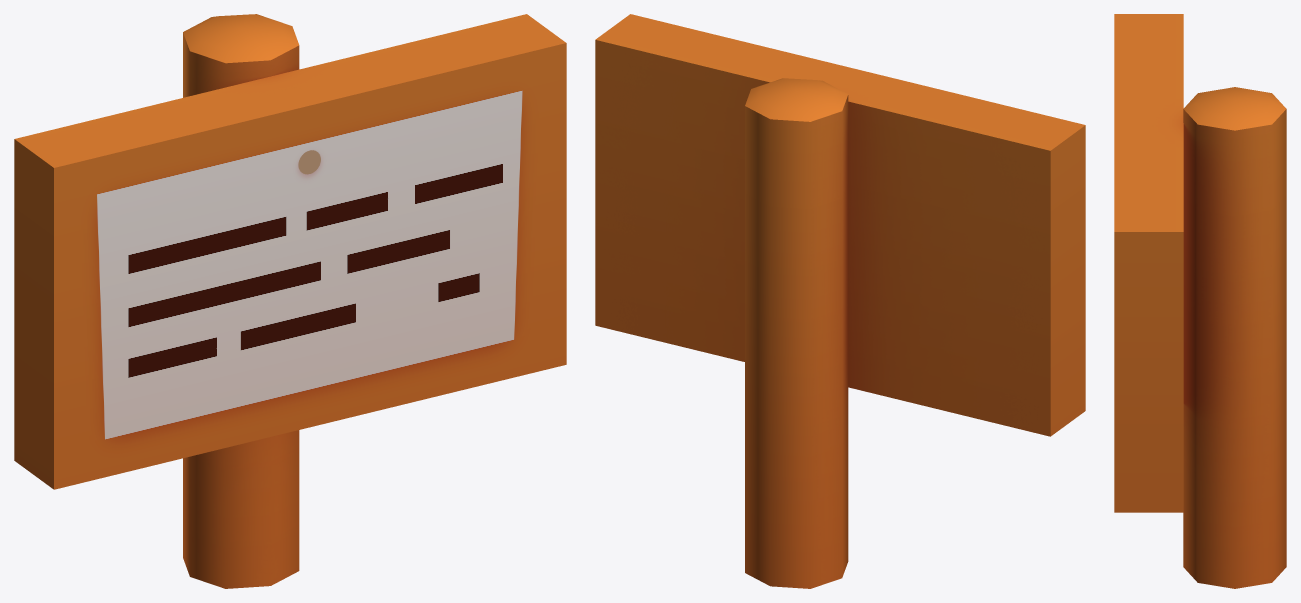
File: Signpost.FBX
3 views of the same model, side by side, from view 1: azimuth 30°, elevation 25°; view 2: azimuth 150°, elevation 25°; view 3: azimuth 270°, elevation 25° (orthographic). The views are drawn at different scales.
Parts seen in each view (by area): view 1: Signpost; view 2: Signpost; view 3: Signpost.
Boxes of the visible parts, box(x1,y1,x2,y2) form: Signpost: box(14, 14, 566, 588); Signpost: box(595, 14, 1085, 588); Signpost: box(1114, 14, 1286, 588).
Size of the model in its own units: 100 by 100 by 33.36.
